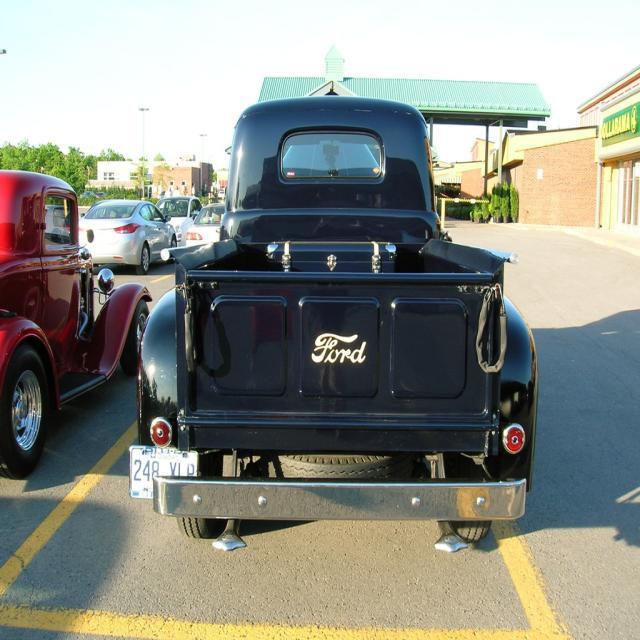car: (140, 97, 544, 548)
